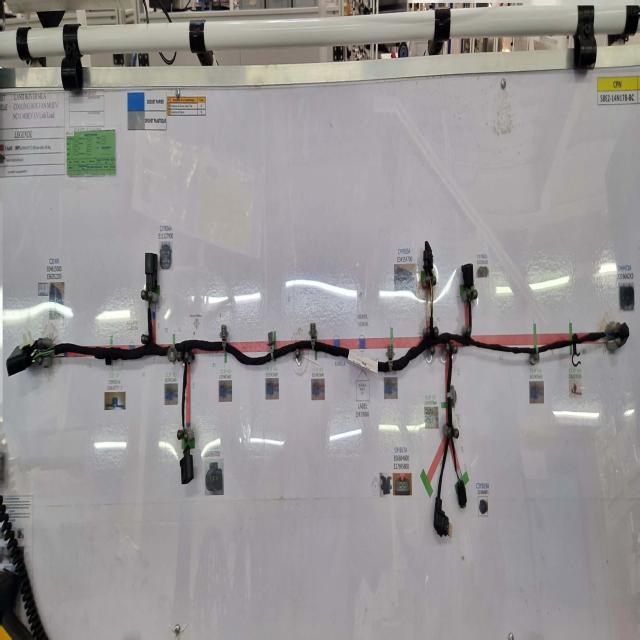Clip: (166, 335, 177, 368), (572, 330, 581, 367), (267, 331, 276, 365), (386, 339, 394, 377), (219, 321, 227, 355), (310, 321, 318, 352), (531, 346, 541, 368), (109, 352, 116, 365)
Connector: (6, 340, 35, 378), (140, 247, 159, 302), (434, 495, 451, 538), (185, 441, 199, 485), (425, 239, 436, 283), (455, 475, 467, 512), (461, 264, 473, 291), (624, 316, 629, 343)
Gape: (32, 336, 62, 360), (146, 284, 156, 326), (592, 331, 614, 349), (428, 274, 434, 326), (186, 416, 194, 448), (456, 466, 464, 480)
Info: (348, 349, 379, 373)
MHEV_N11_Cable: (174, 303, 622, 526), (26, 323, 171, 364)
